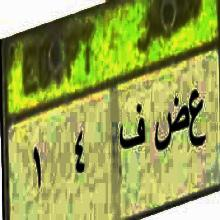1: (32, 145, 43, 189)
4: (71, 129, 86, 176)
ain: (189, 86, 208, 155)
daad: (154, 91, 188, 154)
faa: (116, 100, 146, 152)
